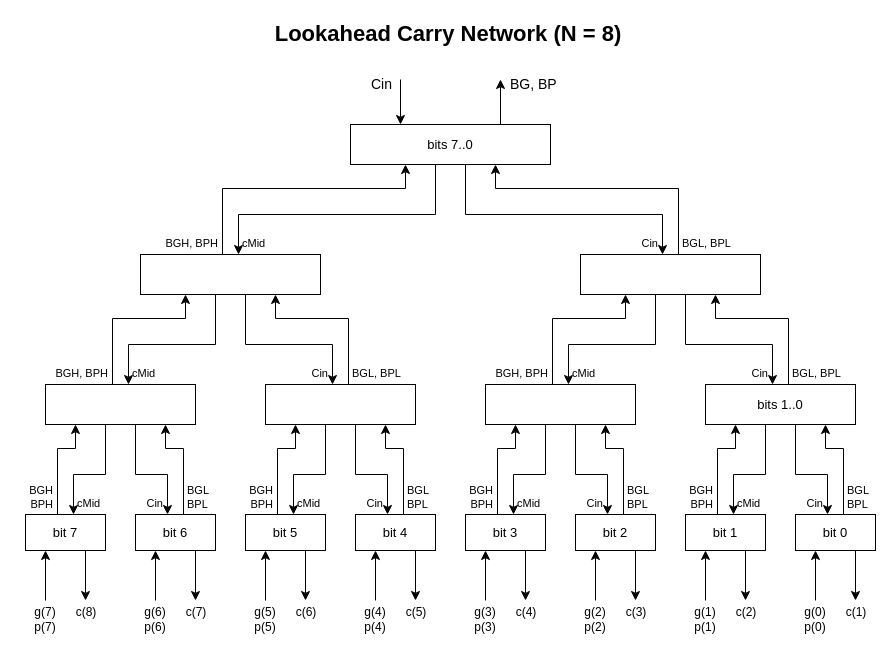
Some shapes in this 896 by 653 pixel diagram are drawn without their labels. Here are the shapes that lost their labels. From the top down, the box of each, then its label:
(140, 254, 320, 294): bits 7..4
(580, 254, 760, 294): bits 3..0
(44, 384, 196, 424): bits 7..6
(264, 384, 416, 424): bits 5..4
(484, 384, 636, 424): bits 3..2
